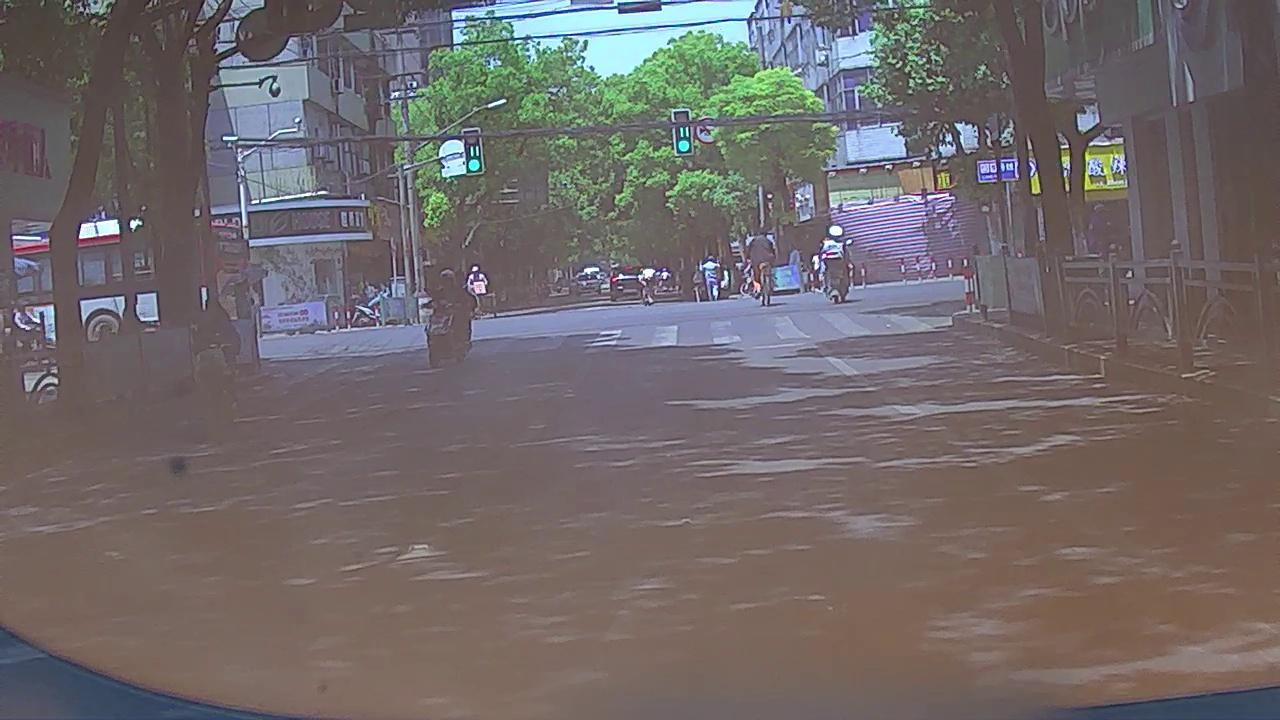traffic_light: (462, 131, 483, 174), (674, 111, 692, 155)
